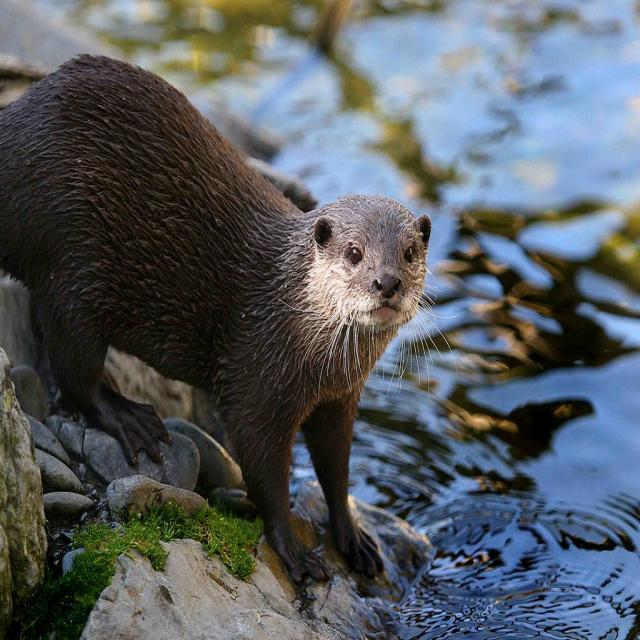otter: (1, 53, 435, 585)
